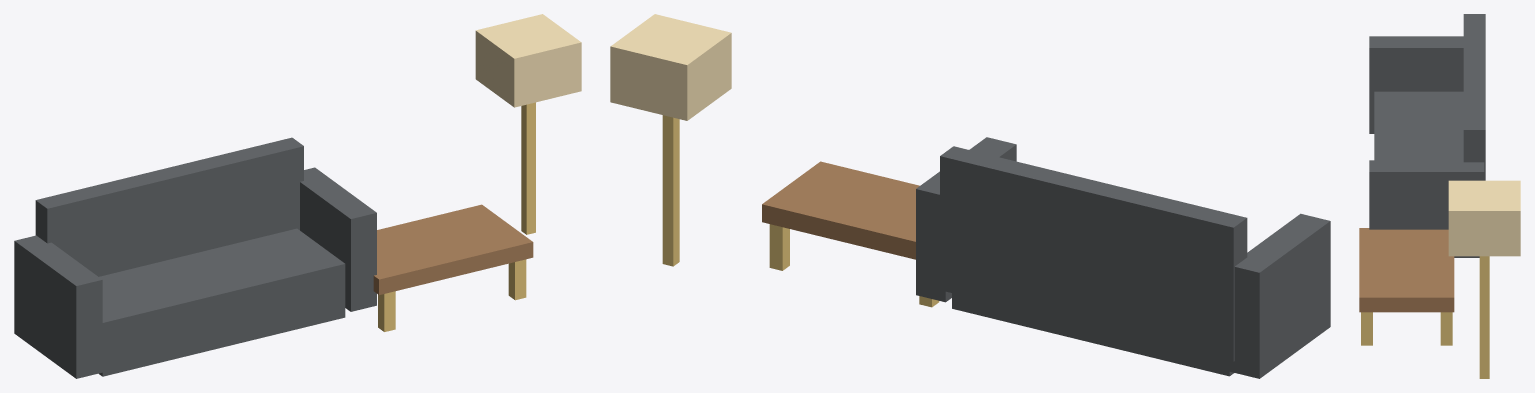
File: furniture.gltf
The picture shows the model from 3 angles, left to right: view 1: azimuth 30°, elevation 25°; view 2: azimuth 150°, elevation 25°; view 3: azimuth 270°, elevation 25°; orthographic projection. The views are drawn at different scales.
Visible parts, largest first — view 1: gltf sofa seat, gltf sofa back, gltf sofa left arm, gltf table top, gltf lamp shade, gltf sofa right arm, gltf lamp stand, gltf table leg d, gltf table leg c; view 2: gltf sofa back, gltf sofa left arm, gltf lamp shade, gltf table top, gltf sofa seat, gltf sofa right arm, gltf lamp stand, gltf table leg b; view 3: gltf table top, gltf sofa right arm, gltf sofa seat, gltf lamp shade, gltf sofa left arm, gltf sofa back, gltf lamp stand, gltf table leg b, gltf table leg d.
Boxes of the visible parts, <box> form: gltf sofa seat: <box>99,228,345,376</box>; gltf sofa back: <box>35,137,303,276</box>; gltf sofa left arm: <box>14,235,102,378</box>; gltf table top: <box>373,204,533,294</box>; gltf lamp shade: <box>475,14,581,107</box>; gltf sofa right arm: <box>300,167,376,311</box>; gltf lamp stand: <box>521,102,535,234</box>; gltf table leg d: <box>508,259,526,300</box>; gltf table leg c: <box>378,291,395,331</box>; gltf sofa back: <box>940,146,1247,361</box>; gltf sofa left arm: <box>1229,213,1330,378</box>; gltf lamp shade: <box>610,14,731,120</box>; gltf table top: <box>762,161,919,259</box>; gltf sofa seat: <box>952,293,1233,376</box>; gltf sofa right arm: <box>916,137,1016,302</box>; gltf lamp stand: <box>662,115,679,266</box>; gltf table leg b: <box>769,224,789,270</box>; gltf table top: <box>1359,228,1454,312</box>; gltf sofa right arm: <box>1369,160,1484,257</box>; gltf sofa seat: <box>1374,91,1463,160</box>; gltf lamp shade: <box>1448,180,1520,256</box>; gltf sofa left arm: <box>1369,36,1463,133</box>; gltf sofa back: <box>1463,14,1485,180</box>; gltf lamp stand: <box>1479,256,1489,378</box>; gltf table leg b: <box>1440,312,1452,345</box>; gltf table leg d: <box>1361,312,1372,345</box>.
Size of the model in its own units: 5.87 by 2 by 1.61.
